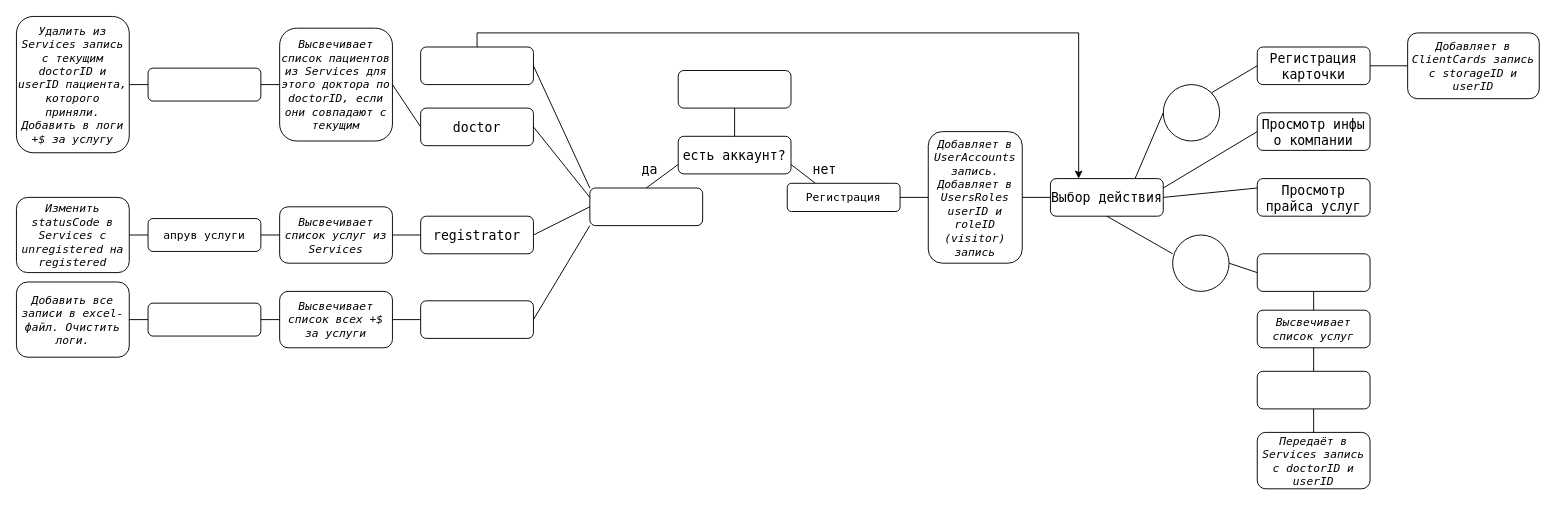
This 1556x506 diagram has some shape labels left out. The shapes that lost their labels are listed below. From the top down, each one's box as (x1, y1, x2, y2) in pixels, then its label:
(147, 67, 261, 101): Принять пациента
(420, 46, 533, 85): visitor
(677, 70, 791, 108): авторизация
(1162, 84, 1220, 141): Если нет карты
(589, 187, 703, 226): выбор роли
(1172, 234, 1229, 291): Если есть карта
(1256, 253, 1370, 291): Выбрать услугу
(147, 302, 261, 336): создать отчёт
(420, 300, 533, 338): accountant
(1256, 370, 1370, 409): Заказать услугу
